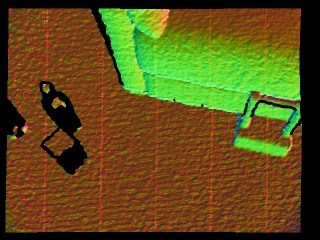station: (233, 92, 302, 159)
